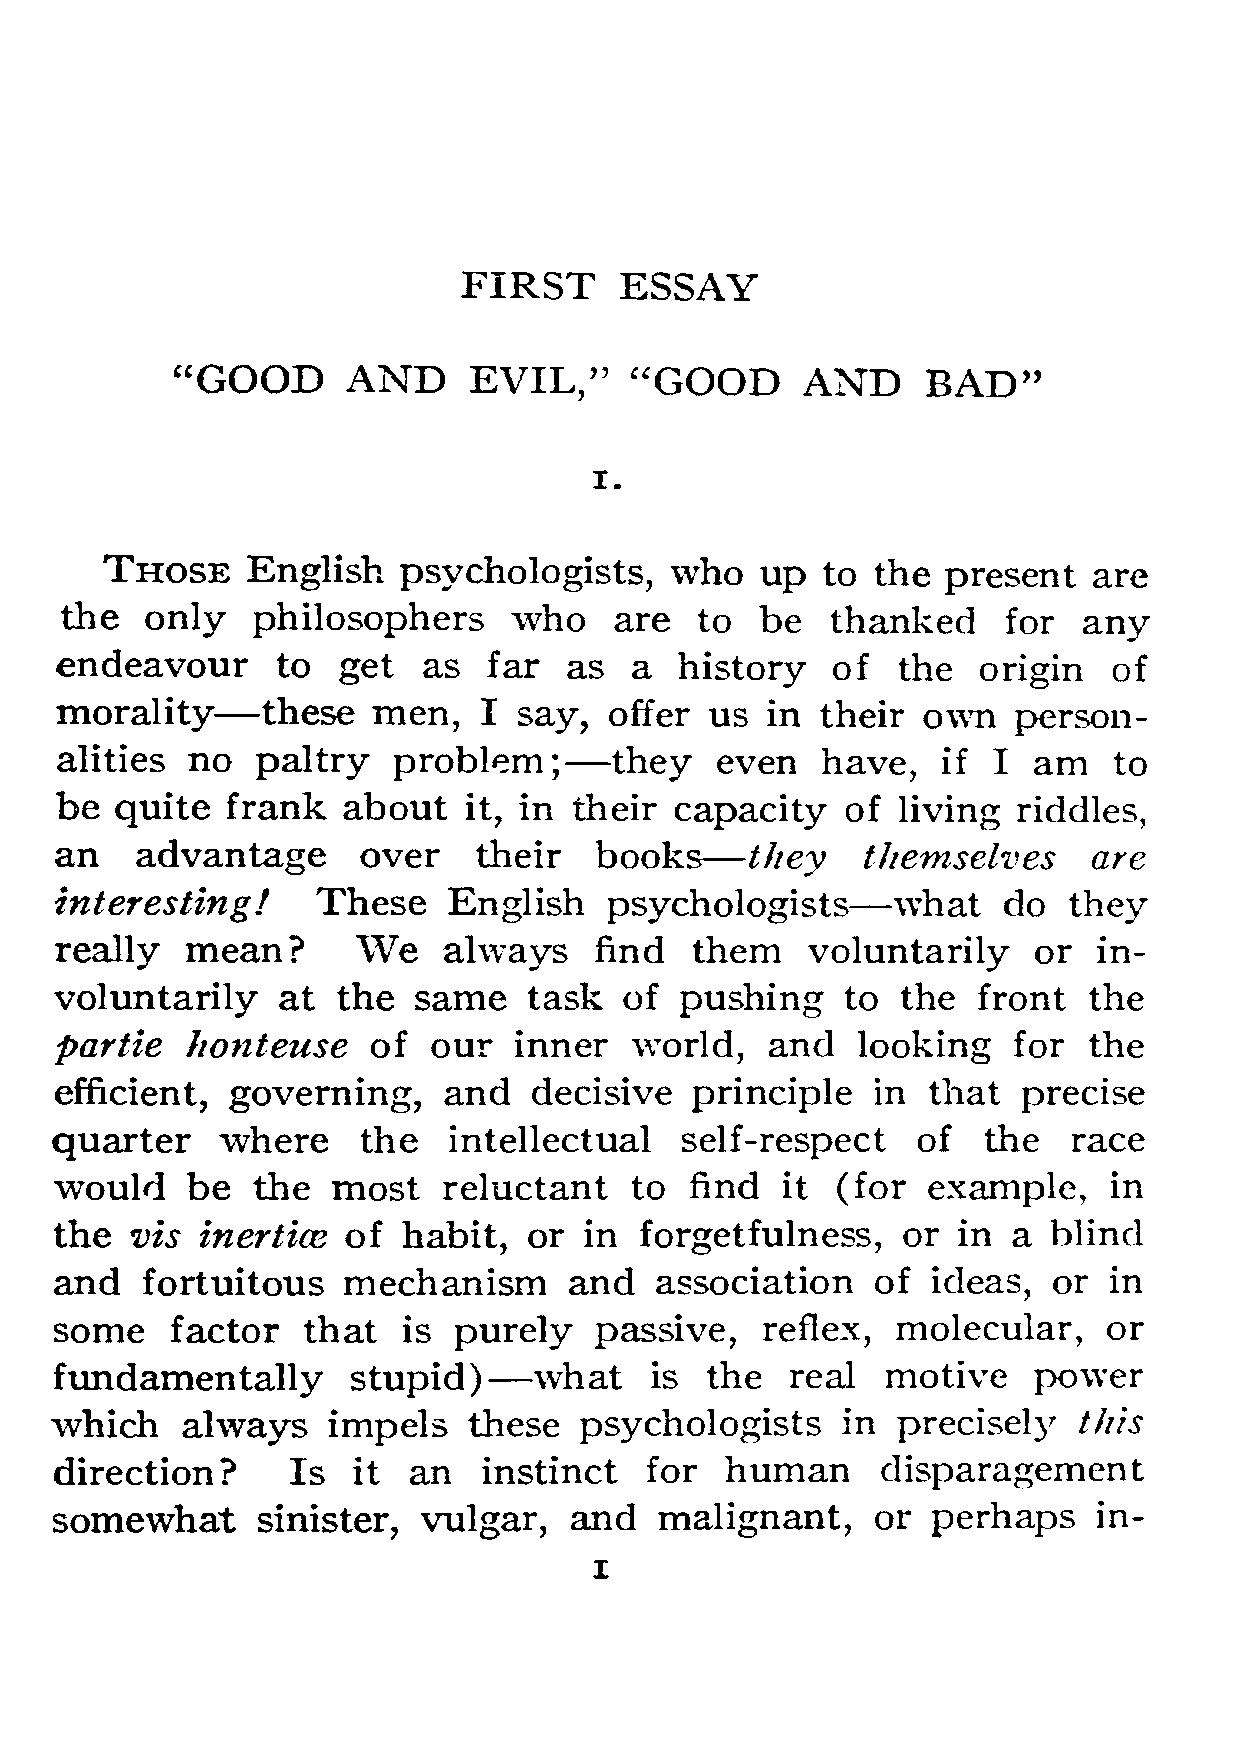chapter: (166, 267, 1041, 404)
content: (50, 550, 1150, 1541)
content_pagenumber: (586, 1554, 611, 1586)
